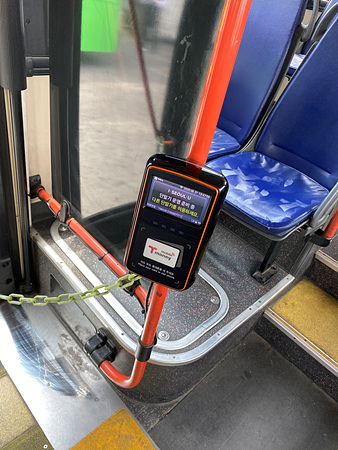terminal: (131, 159, 208, 286)
